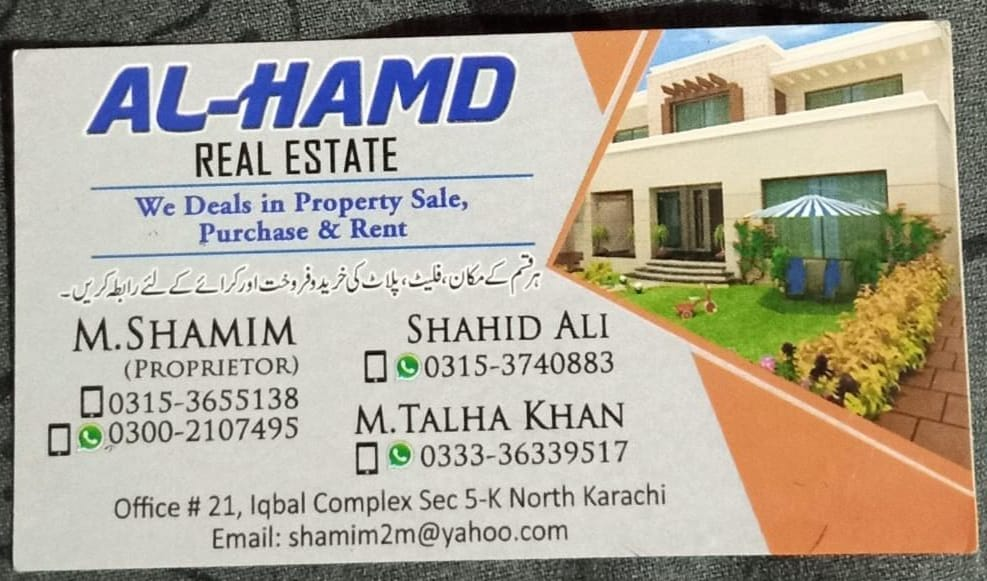alphabetical: (81, 52, 518, 132), (128, 183, 481, 246), (184, 135, 412, 179)
numerical: (421, 346, 625, 382), (417, 436, 631, 468), (107, 385, 305, 414)
